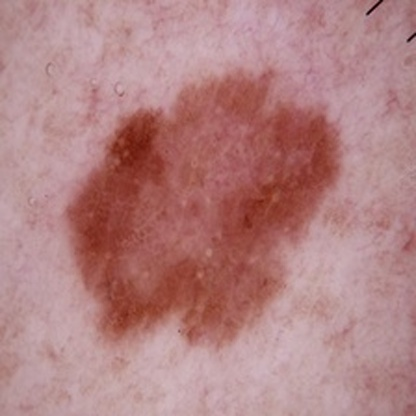malignant: (85, 107, 305, 328)
